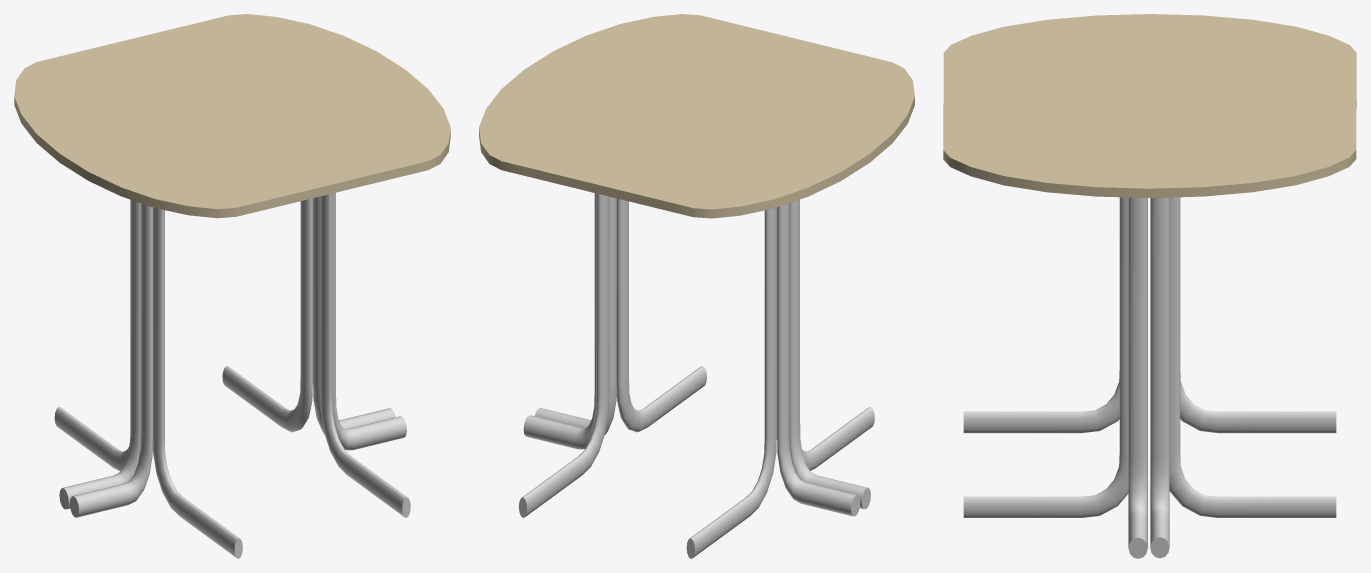
The model's file is sh-contrib-table-cuisine2.glb.
The picture shows the model from 3 angles, left to right: view 1: azimuth 30°, elevation 25°; view 2: azimuth 150°, elevation 25°; view 3: azimuth 270°, elevation 25°; orthographic projection. The views are drawn at different scales.
Visible parts, largest first — view 1: mesh01, mesh03; view 2: mesh01, mesh03; view 3: mesh01, mesh03.
Part boxes in pixels (left/top/right/bottom): mesh01: left=14, top=14, right=450, bottom=218; mesh03: left=54, top=192, right=410, bottom=558; mesh01: left=479, top=14, right=914, bottom=218; mesh03: left=518, top=193, right=874, bottom=558; mesh01: left=943, top=14, right=1356, bottom=197; mesh03: left=963, top=197, right=1336, bottom=558.
Size of the model in its own units: 1 by 1 by 1.
